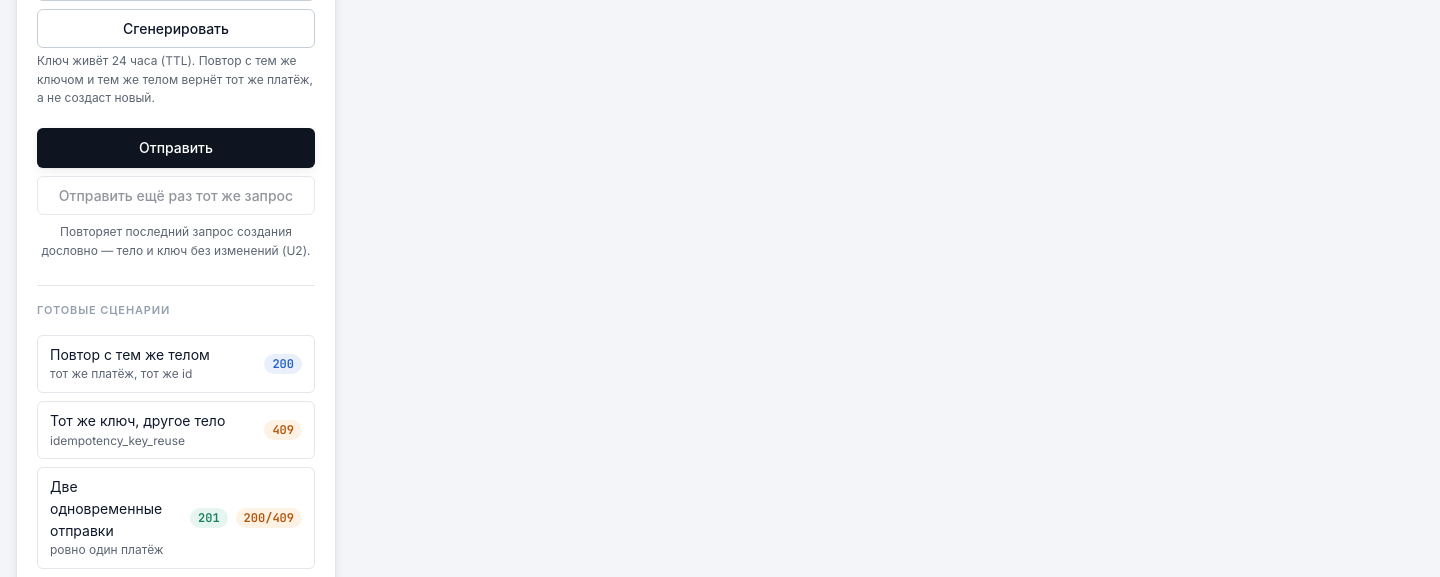
Test case: @req U4 @req U5 две одновременные отправки, исход второго запроса — 200 › оба запроса ушли одним ключом — иначе гонки не было
The image size is (1440, 577).
(page scrolled)
Step 1. Click the button "Две одновременные отправки ровно один платёж 201 200/409" → {"x": 106, "y": 508}, box [37, 467, 315, 569]
(page scrolled)
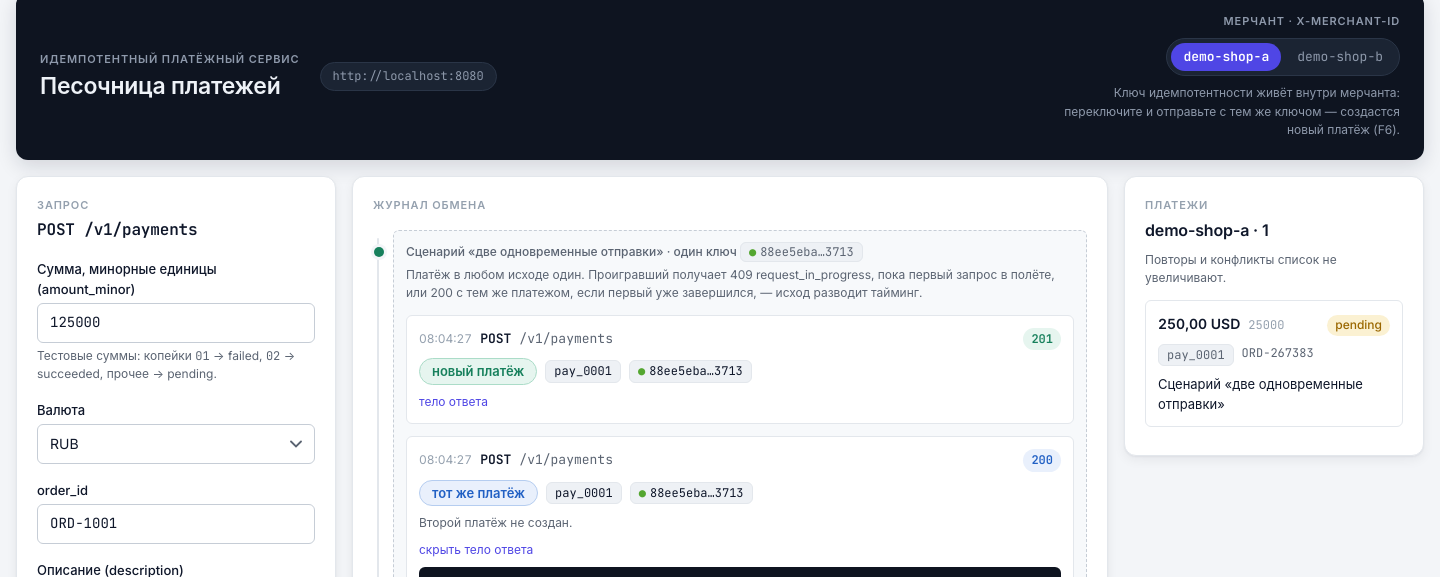
Now the element that starts with "250,00 USD" is shown, box [1145, 300, 1403, 428]
